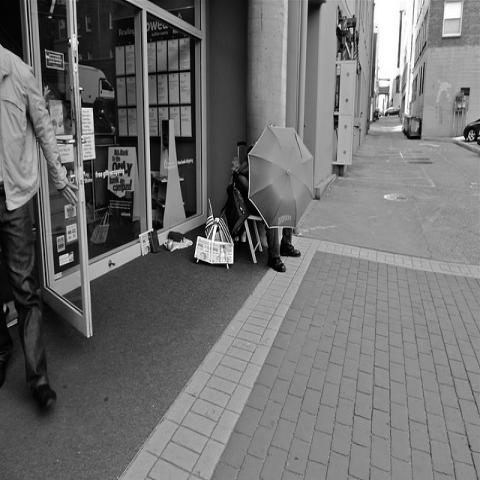car: (462, 117, 480, 142), (384, 106, 400, 117)
